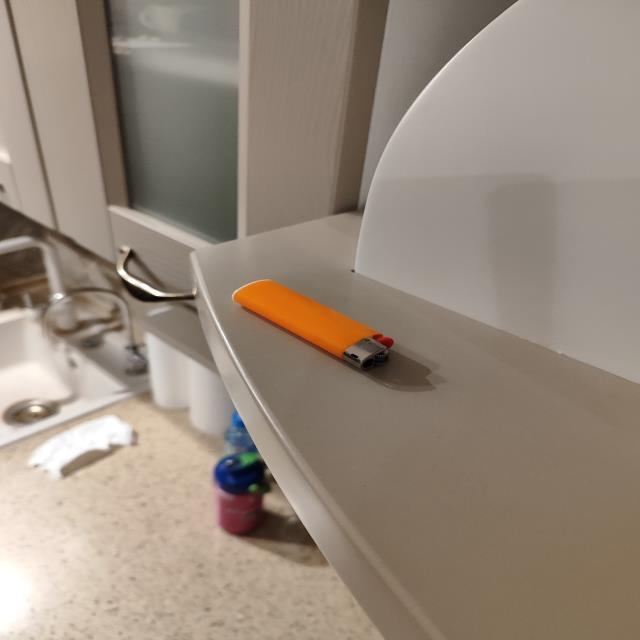lighter: (233, 280, 391, 368)
